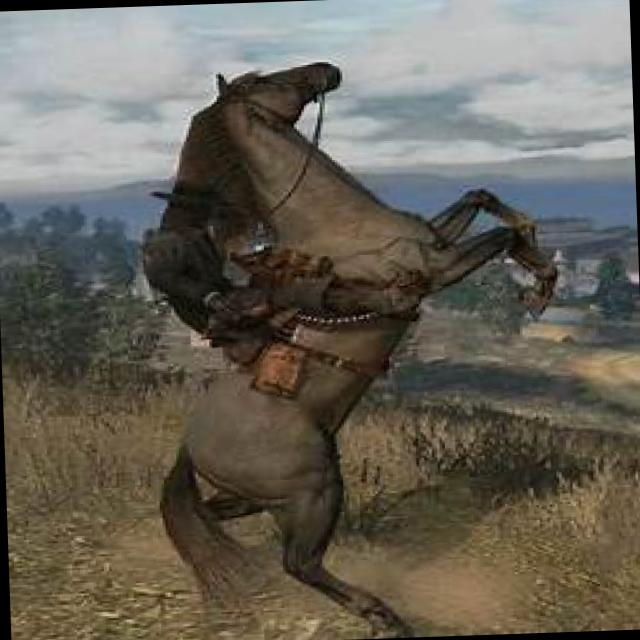animal: (133, 52, 569, 640)
